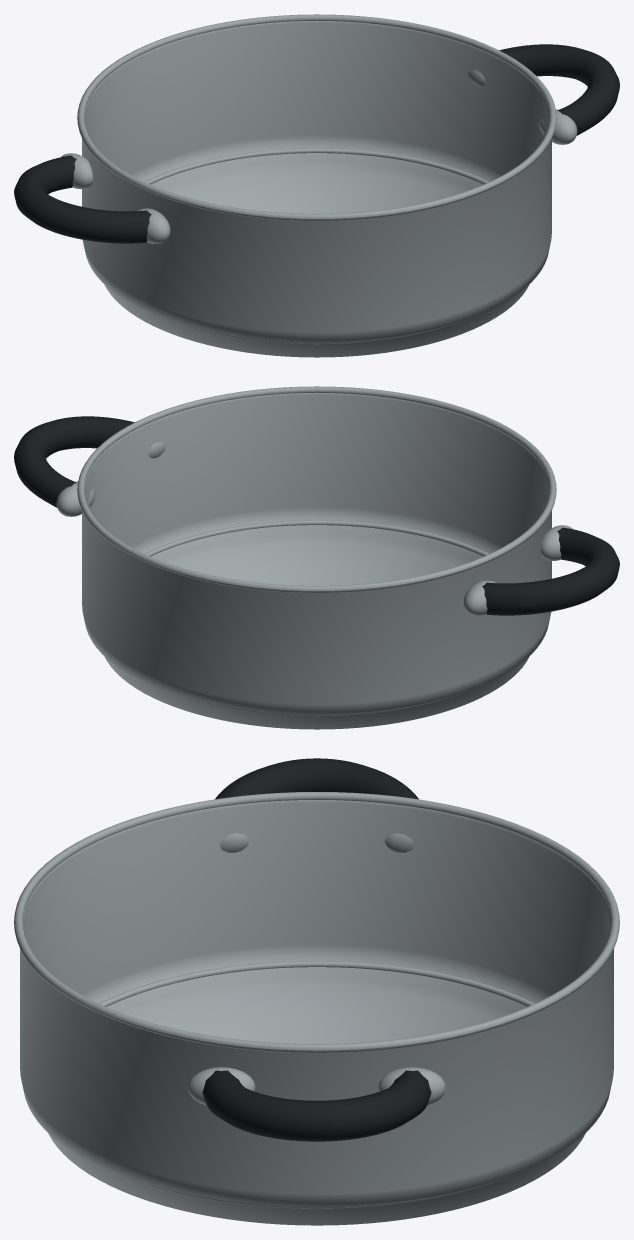
Rendered from cookware__steamer_upper_insert.glb.
3 renders of one model, top to bottom at view 1: azimuth 30°, elevation 25°; view 2: azimuth 150°, elevation 25°; view 3: azimuth 270°, elevation 25°, orthographic. The views are drawn at different scales.
Visible parts, largest first — view 1: vessel; view 2: vessel; view 3: vessel.
Boxes of the visible parts, box(x1,y1,x2,y2) form: vessel: box(14, 14, 619, 357); vessel: box(14, 386, 619, 729); vessel: box(14, 758, 619, 1225).
Size of the model in its own units: 0.3759 by 0.093 by 0.2673.
Materials: 2 (1 with a texture image).
